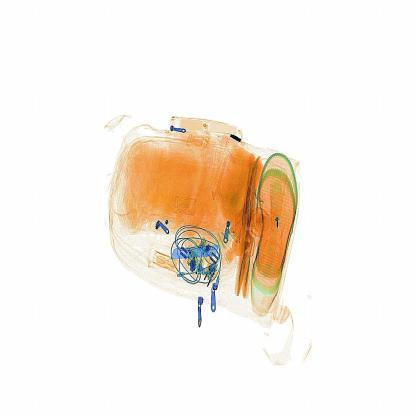pliers: (166, 240, 223, 268)
